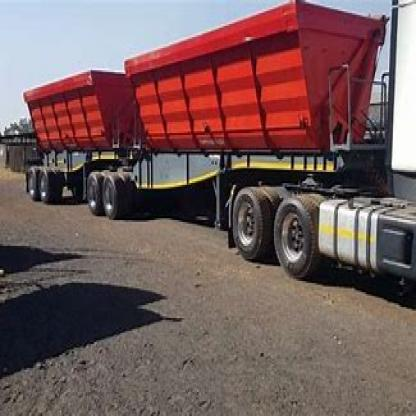dump_truck: (15, 6, 415, 305)
